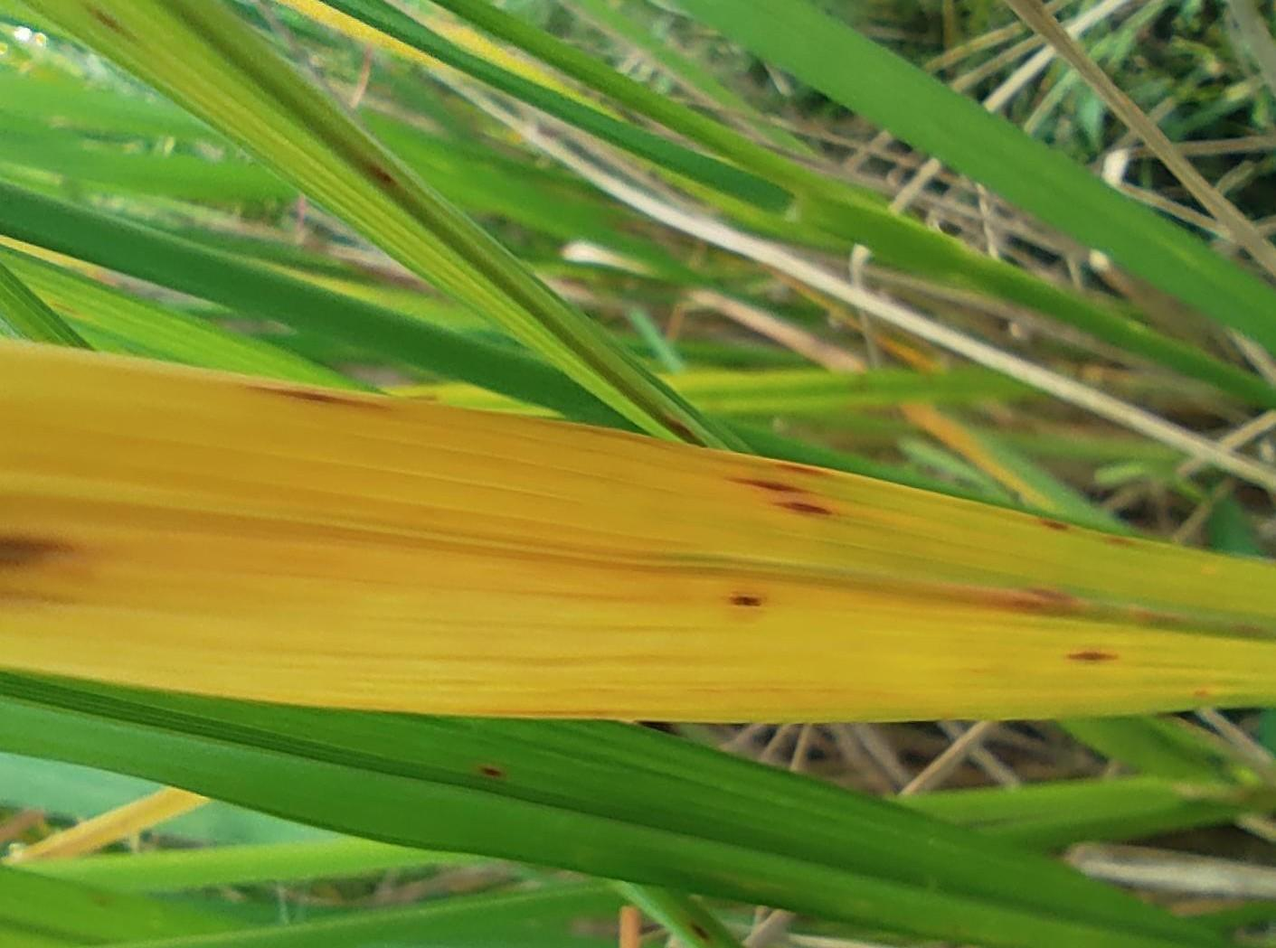LEAF: (0, 342, 1275, 721)
NBS: (241, 383, 386, 410), (994, 589, 1077, 612), (726, 477, 815, 495), (773, 500, 834, 515), (1067, 649, 1119, 662), (774, 463, 827, 475), (730, 592, 765, 607), (1102, 534, 1139, 546), (1039, 518, 1071, 530), (1194, 690, 1212, 698)
